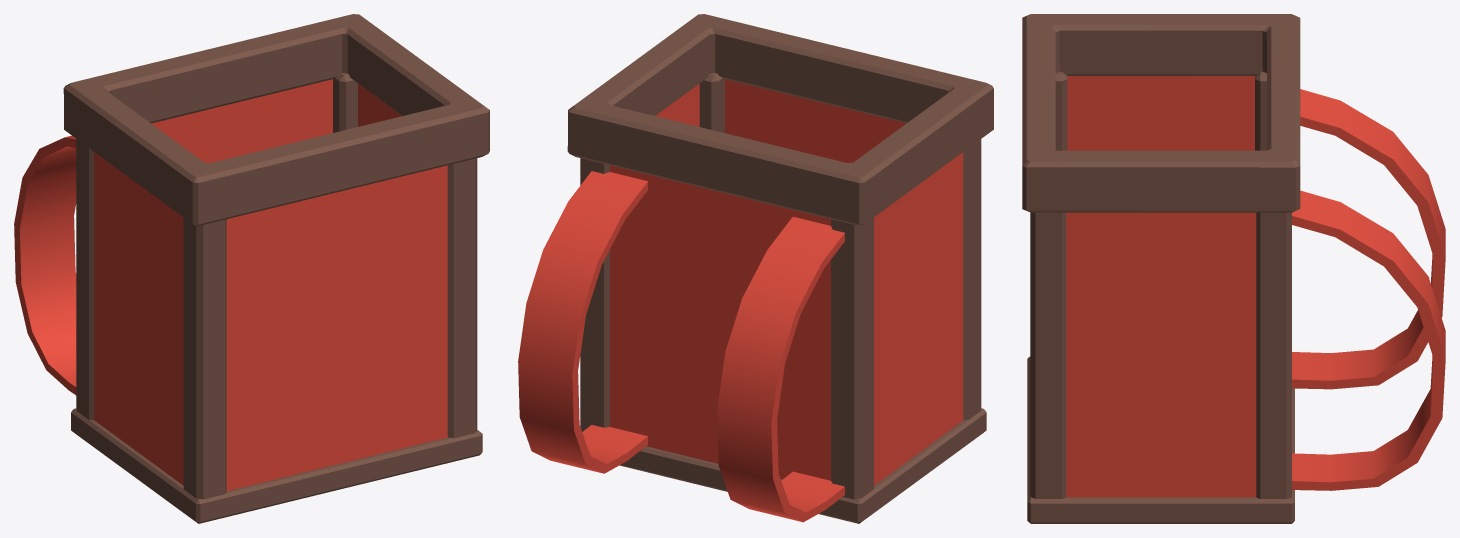
3 views of the same model, side by side, from view 1: azimuth 30°, elevation 25°; view 2: azimuth 150°, elevation 25°; view 3: azimuth 270°, elevation 25° (orthographic). The views are drawn at different scales.
Visible parts, largest first — view 1: Balo_1; view 2: Balo_1; view 3: Balo_1.
Part boxes in pixels (bbox=[...]): Balo_1: bbox=[14, 14, 489, 523]; Balo_1: bbox=[518, 14, 993, 523]; Balo_1: bbox=[1022, 14, 1445, 523].
Bounding box in the file's own units: 109 × 122 × 129.
